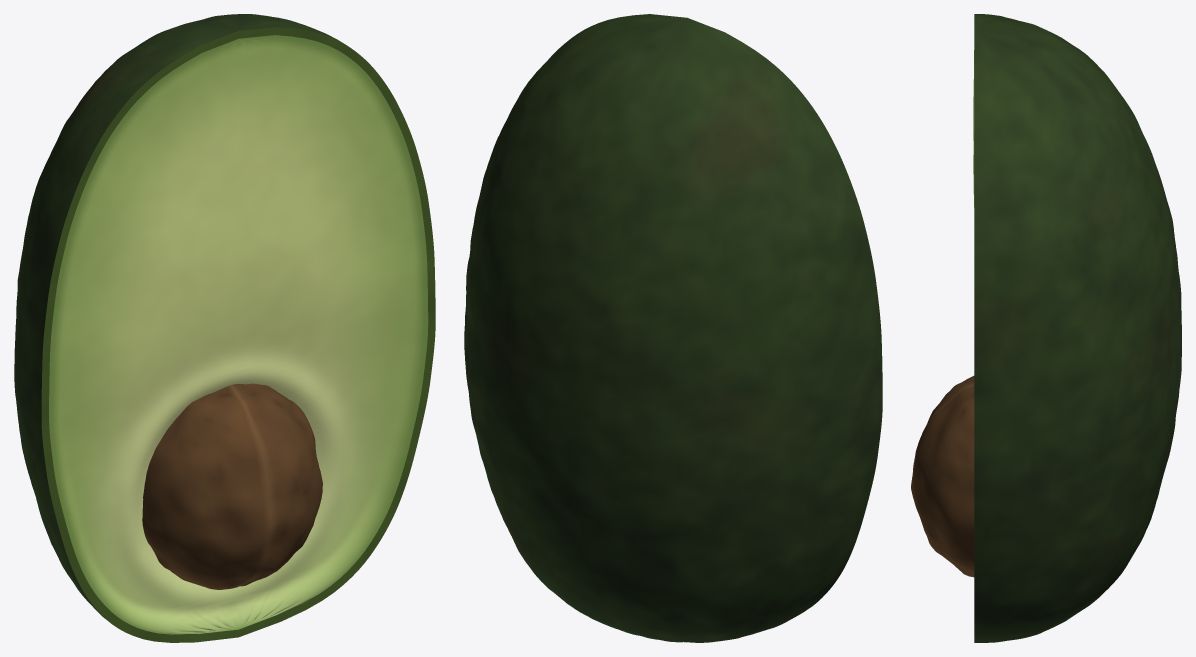
File: avocado_half.glb
3 views of the same model, side by side, from view 1: azimuth 30°, elevation 25°; view 2: azimuth 150°, elevation 25°; view 3: azimuth 270°, elevation 25° (orthographic). The views are drawn at different scales.
Visible parts, largest first — view 1: avocado_half, avocado_pit; view 2: avocado_half; view 3: avocado_half, avocado_pit.
Boxes of the visible parts, x1,y1,x2,y2 form: avocado_half: [14, 14, 435, 642]; avocado_pit: [142, 383, 322, 589]; avocado_half: [464, 14, 882, 642]; avocado_half: [973, 14, 1181, 642]; avocado_pit: [911, 376, 974, 577].
Bounding box in the file's own units: 0.1054 × 0.155 × 0.0647.
